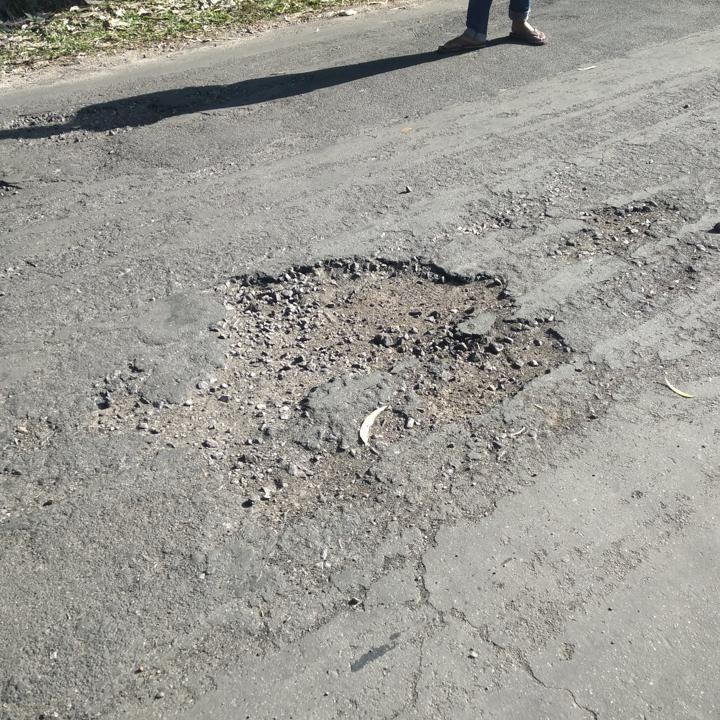pothole: (83, 244, 576, 523), (578, 194, 686, 257)
